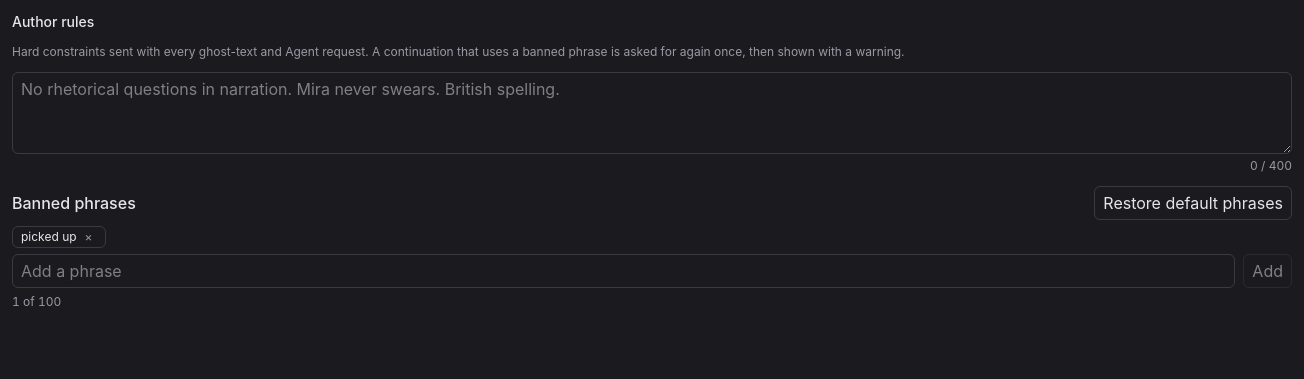
Test: AuthorRulesSection (F-14.2) › restores the missing seeded phrases without dropping the author’s own
This screenshot has width=1304, height=379.
Click the button "Restore default phrases" at (1193, 203), box 1094,186 -> 1292,220
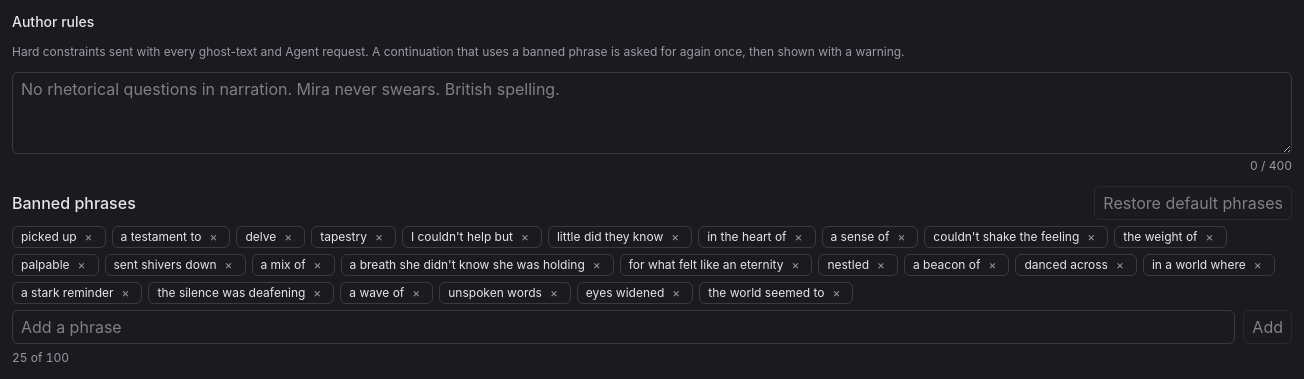
Expected: the button "Restore default phrases" is disabled, 1094,186 -> 1292,220
